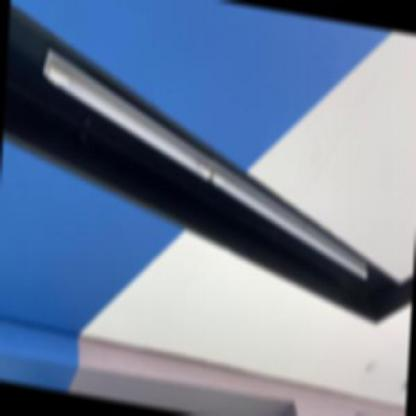light_off: (29, 18, 385, 292)
